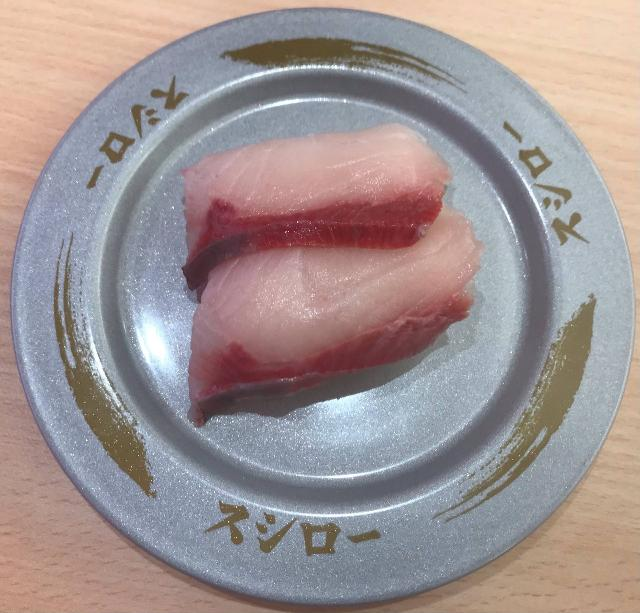janwhite: (76, 40, 577, 567)
